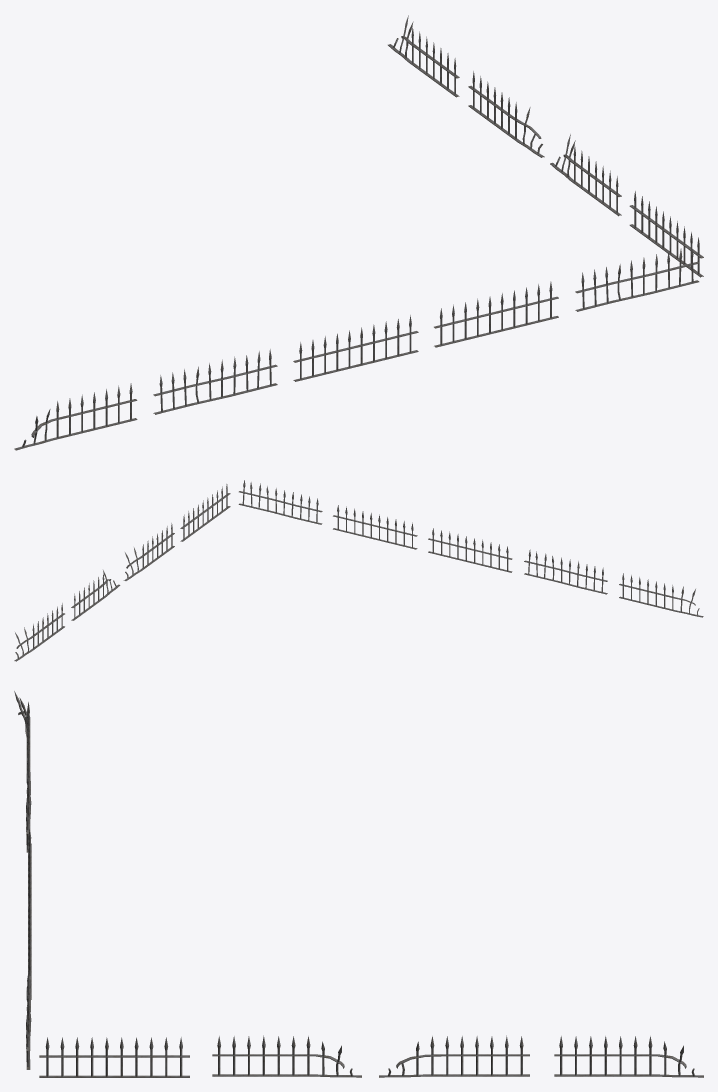
Rendered from Cemetery_STR_OuterWall_03_Fence.fbx.
3 renders of one model, top to bottom at view 1: azimuth 30°, elevation 25°; view 2: azimuth 150°, elevation 25°; view 3: azimuth 270°, elevation 25°, orthographic. The views are drawn at different scales.
Visible parts, largest first — view 1: Cemetery_STR_OuterWall_03_Fence; view 2: Cemetery_STR_OuterWall_03_Fence; view 3: Cemetery_STR_OuterWall_03_Fence.
Part boxes in pixels (x1,y1,x2,y2): Cemetery_STR_OuterWall_03_Fence: [14, 15, 703, 450]; Cemetery_STR_OuterWall_03_Fence: [14, 480, 703, 661]; Cemetery_STR_OuterWall_03_Fence: [14, 691, 703, 1077].
Size of the model in its own units: 2311 by 126 by 1855.
1 material, 1 textured.
